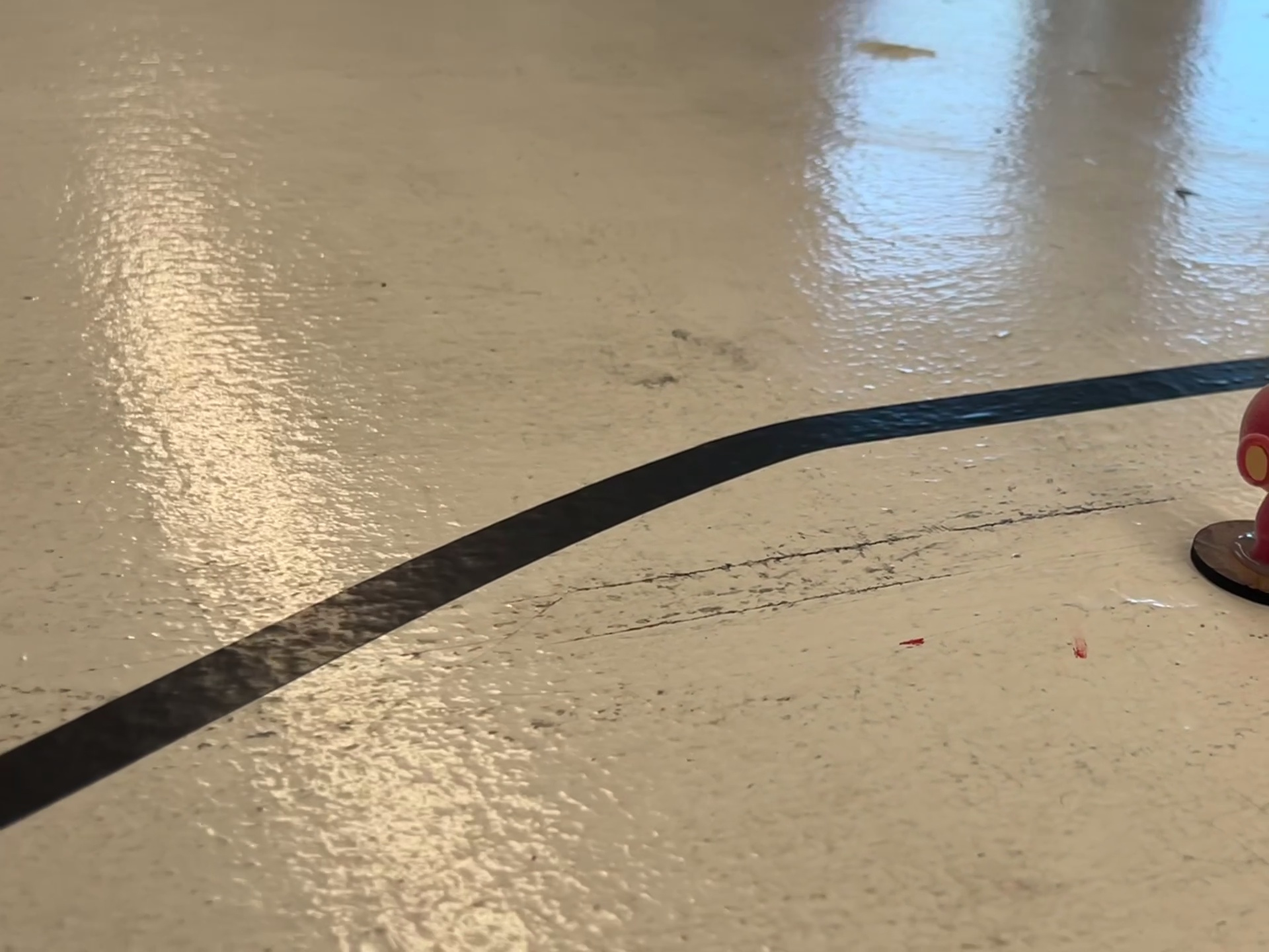teletubby: (1236, 385, 1268, 493), (1252, 495, 1268, 562)
